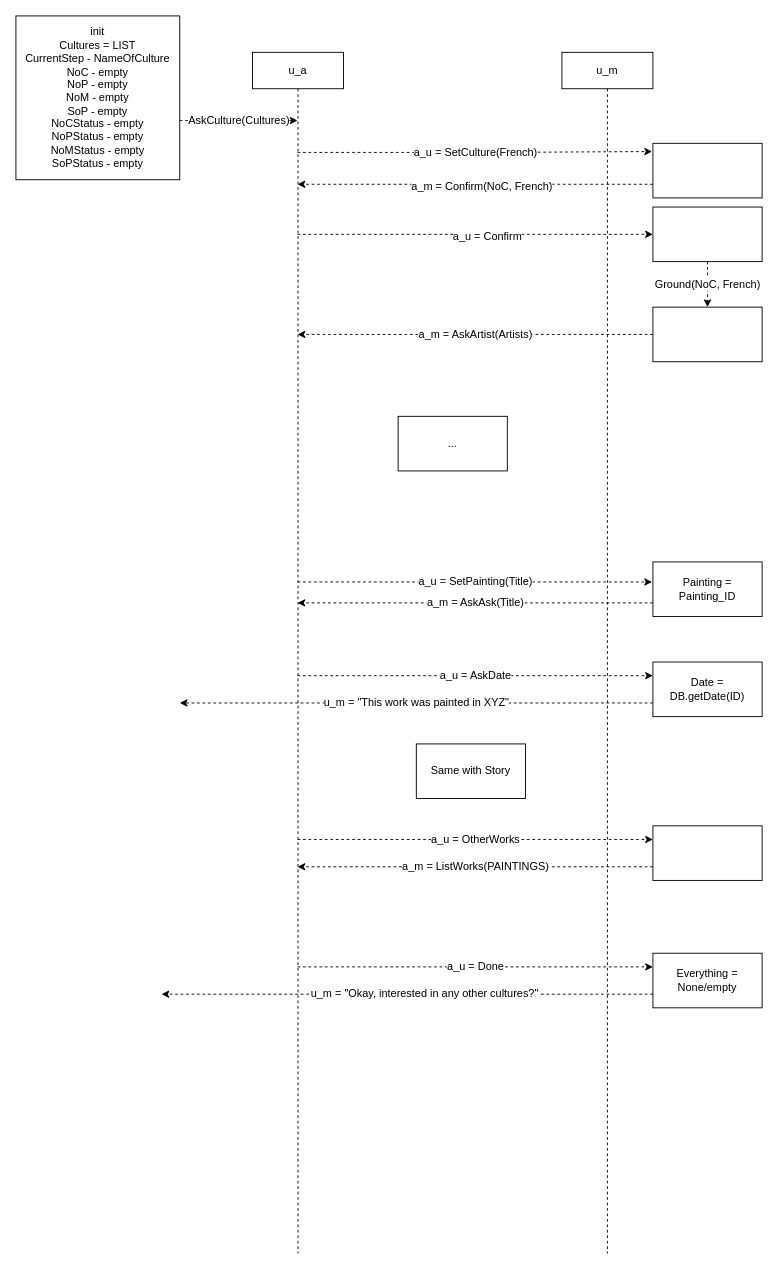
Image size: 778x1269. Some labels were removed from this diagram. Here are the shapes that lost their labels. From the top down, the box of each, then its label:
(652, 142, 762, 198): NoCStatus = filled
(652, 206, 762, 262): NoC = French NoCS = confirmed
(652, 306, 762, 362): CurrentStep = Artist Artists = LIST
(652, 825, 762, 880): Painting = None
